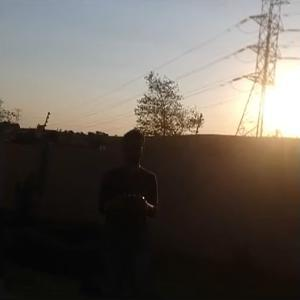follow: (90, 124, 160, 298)
